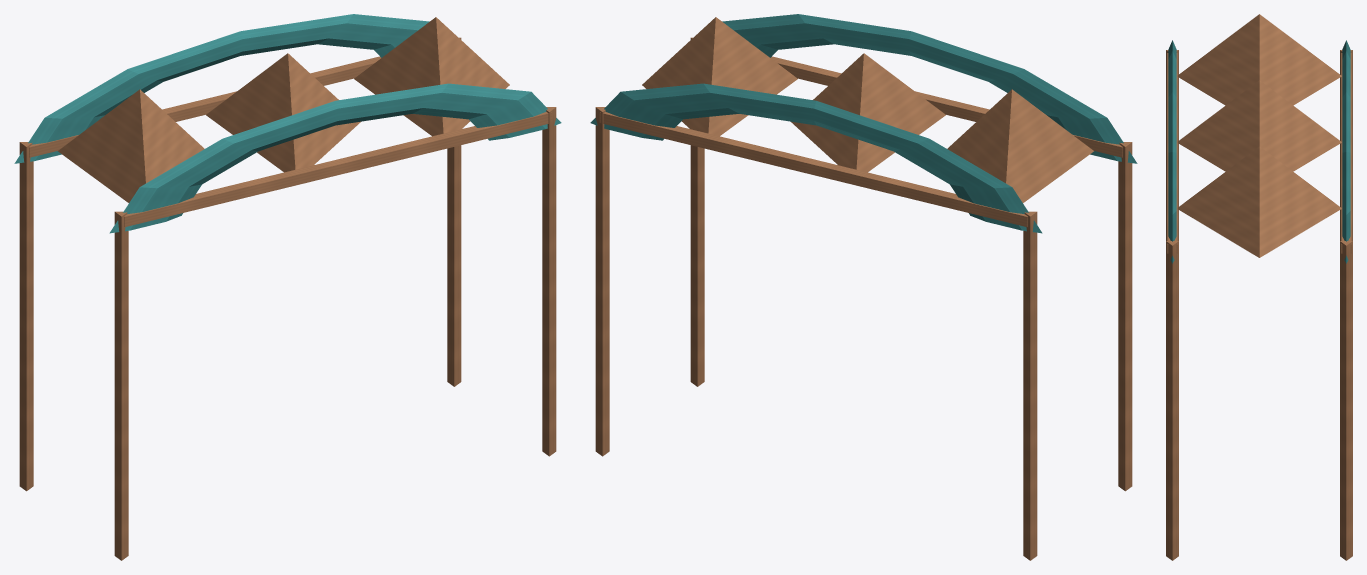
File: atlas100-s091-a08.lod2.glb
The picture shows the model from 3 angles, left to right: view 1: azimuth 30°, elevation 25°; view 2: azimuth 150°, elevation 25°; view 3: azimuth 270°, elevation 25°; orthographic projection. The views are drawn at different scales.
Visible parts, largest first — view 1: atlas100-s091-a08:part-011, atlas100-s091-a08:part-010, atlas100-s091-a08:part-012, atlas100-s091-a08:part-013, atlas100-s091-a08:part-014, atlas100-s091-a08:part-009, atlas100-s091-a08:part-002, atlas100-s091-a08:part-000, atlas100-s091-a08:part-006, atlas100-s091-a08:part-004, atlas100-s091-a08:part-008; view 2: atlas100-s091-a08:part-010, atlas100-s091-a08:part-011, atlas100-s091-a08:part-012, atlas100-s091-a08:part-013, atlas100-s091-a08:part-014, atlas100-s091-a08:part-008, atlas100-s091-a08:part-000, atlas100-s091-a08:part-002, atlas100-s091-a08:part-004, atlas100-s091-a08:part-006, atlas100-s091-a08:part-009; view 3: atlas100-s091-a08:part-014, atlas100-s091-a08:part-012, atlas100-s091-a08:part-013, atlas100-s091-a08:part-004, atlas100-s091-a08:part-006, atlas100-s091-a08:part-010, atlas100-s091-a08:part-011, atlas100-s091-a08:part-008, atlas100-s091-a08:part-009, atlas100-s091-a08:part-000, atlas100-s091-a08:part-002.
Part boxes in pixels (bbox=[...]): atlas100-s091-a08:part-011: bbox=[109, 83, 561, 233]; atlas100-s091-a08:part-010: bbox=[14, 14, 429, 163]; atlas100-s091-a08:part-012: bbox=[58, 89, 204, 202]; atlas100-s091-a08:part-013: bbox=[206, 53, 360, 172]; atlas100-s091-a08:part-014: bbox=[354, 17, 509, 136]; atlas100-s091-a08:part-009: bbox=[124, 112, 552, 227]; atlas100-s091-a08:part-002: bbox=[114, 211, 128, 560]; atlas100-s091-a08:part-000: bbox=[19, 142, 33, 491]; atlas100-s091-a08:part-006: bbox=[542, 107, 556, 456]; atlas100-s091-a08:part-004: bbox=[447, 37, 461, 386]; atlas100-s091-a08:part-008: bbox=[29, 56, 380, 157]; atlas100-s091-a08:part-010: bbox=[590, 83, 1042, 233]; atlas100-s091-a08:part-011: bbox=[722, 14, 1137, 163]; atlas100-s091-a08:part-012: bbox=[947, 89, 1093, 202]; atlas100-s091-a08:part-013: bbox=[791, 53, 945, 172]; atlas100-s091-a08:part-014: bbox=[642, 17, 797, 136]; atlas100-s091-a08:part-008: bbox=[599, 112, 1027, 227]; atlas100-s091-a08:part-000: bbox=[1023, 211, 1037, 560]; atlas100-s091-a08:part-002: bbox=[1118, 142, 1132, 491]; atlas100-s091-a08:part-004: bbox=[595, 107, 609, 456]; atlas100-s091-a08:part-006: bbox=[690, 37, 704, 386]; atlas100-s091-a08:part-009: bbox=[771, 56, 1122, 157]; atlas100-s091-a08:part-014: bbox=[1177, 146, 1341, 257]; atlas100-s091-a08:part-012: bbox=[1177, 14, 1341, 105]; atlas100-s091-a08:part-013: bbox=[1177, 80, 1341, 171]; atlas100-s091-a08:part-004: bbox=[1340, 241, 1352, 560]; atlas100-s091-a08:part-006: bbox=[1166, 241, 1178, 560]; atlas100-s091-a08:part-010: bbox=[1342, 40, 1350, 263]; atlas100-s091-a08:part-011: bbox=[1168, 40, 1176, 263]; atlas100-s091-a08:part-008: bbox=[1341, 53, 1351, 253]; atlas100-s091-a08:part-009: bbox=[1167, 53, 1177, 253]; atlas100-s091-a08:part-000: bbox=[1340, 50, 1352, 240]; atlas100-s091-a08:part-002: bbox=[1166, 50, 1178, 240].
Bounding box in the file's own units: 5.5 × 4.85 × 2.15.
2 materials, 2 textured.
